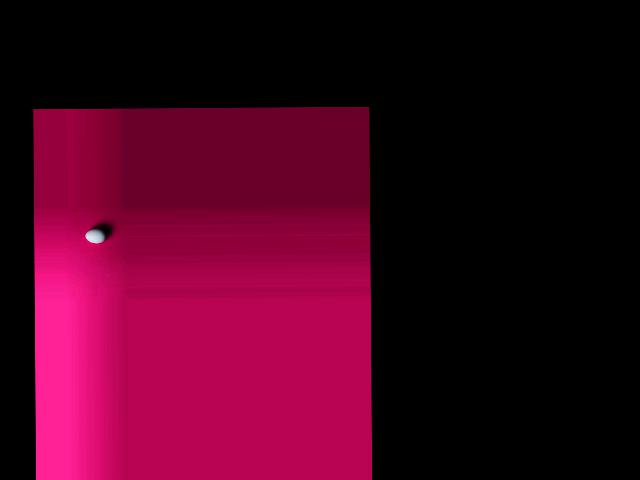egg: (85, 228, 106, 244)
